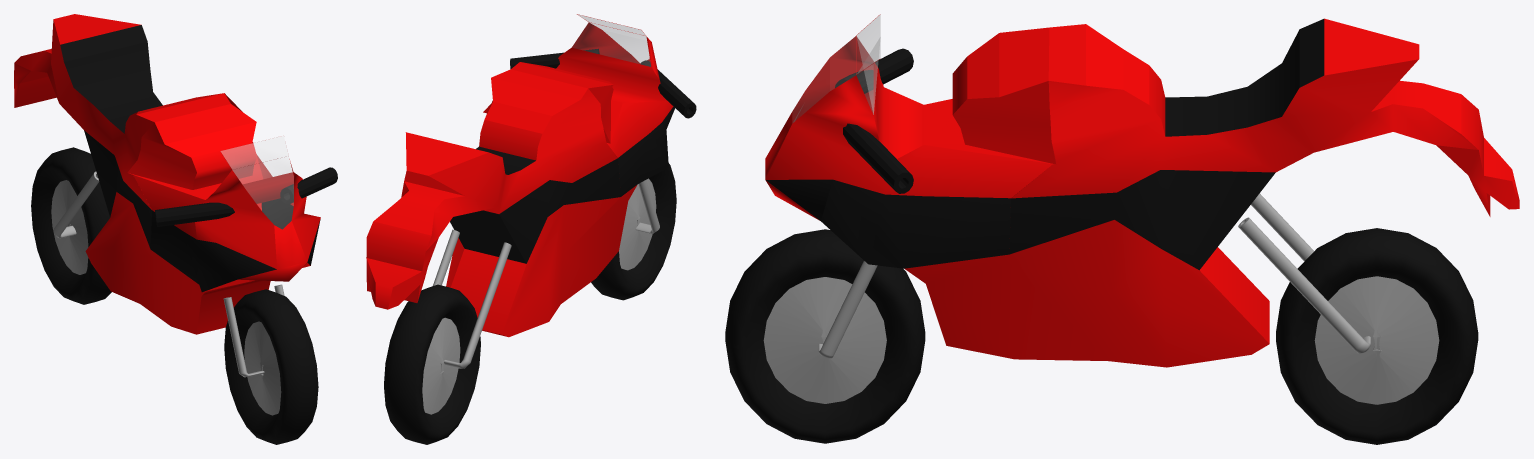
Rendered from Bike2.fbx.
3 views of the same model, side by side, from view 1: azimuth 30°, elevation 25°; view 2: azimuth 150°, elevation 25°; view 3: azimuth 270°, elevation 25° (orthographic). The views are drawn at different scales.
Parts seen in each view (by area): view 1: body, wheel1, wheel2, pipe5, pipe7; view 2: body, wheel2, wheel1, pipe5, pipe7, pipe6; view 3: body, wheel2, wheel1, pipe6, pipe8, pipe5.
Boxes of the visible parts, x1,y1,x2,y2 form: body: (14, 14, 337, 334); wheel1: (224, 289, 318, 444); wheel2: (31, 147, 111, 304); pipe5: (53, 171, 99, 238); pipe7: (223, 297, 264, 377); body: (366, 14, 696, 337); wheel2: (384, 284, 480, 444); wheel1: (591, 163, 676, 300); pipe5: (444, 242, 511, 368); pipe7: (635, 180, 659, 233); pipe6: (433, 229, 459, 285); body: (765, 14, 1519, 367); wheel2: (1276, 228, 1478, 444); wheel1: (725, 229, 925, 443); pipe6: (1238, 217, 1370, 353); pipe8: (818, 261, 877, 358); pipe5: (1251, 193, 1314, 261).
Size of the model in its own units: 0.9909 by 1.48 by 2.63.
